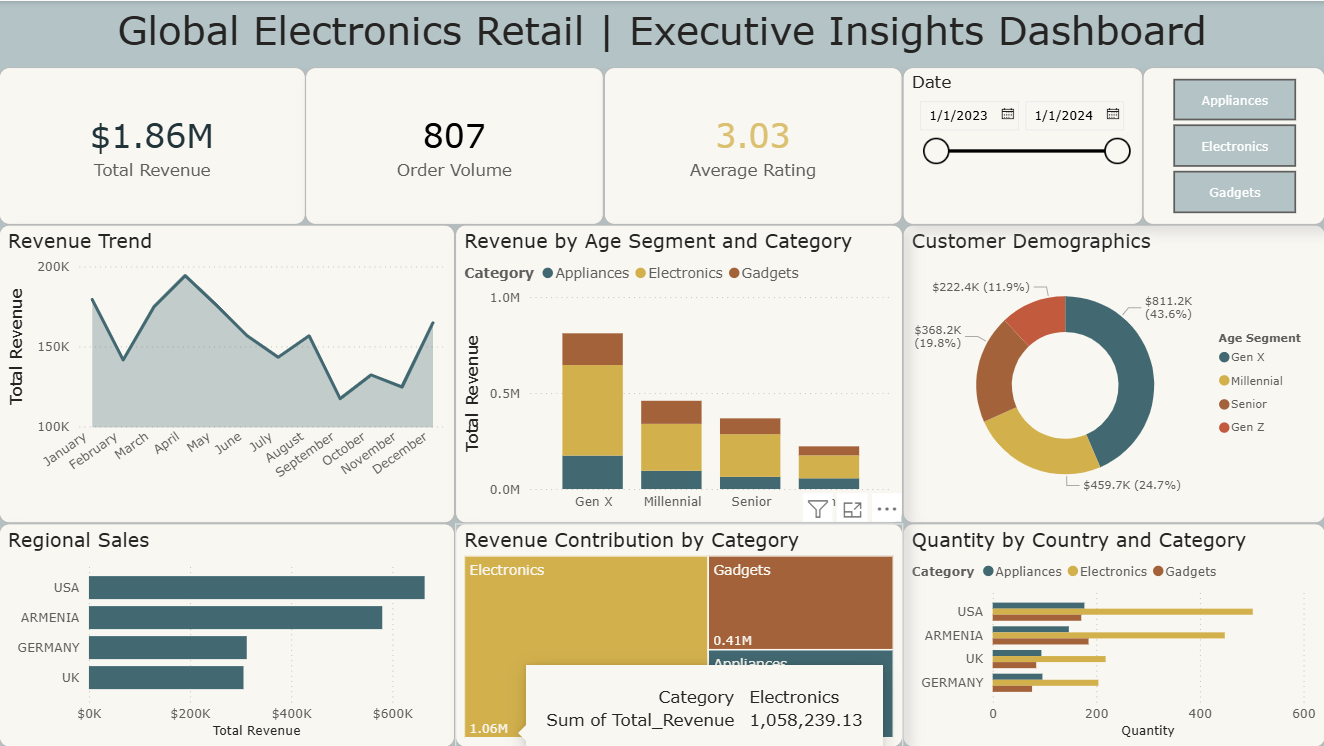

This screenshot's page, from the dashboard's own definition file:
{"tool":"powerbi","page":{"name":"Page 1","canvas":[1280,720],"ordinal":0},"visuals":[{"type":"card","fields":{"Values":["Sum(Query1.Total_Revenue)"]},"box":[0,64,296,152],"z":0},{"type":"card","fields":{"Values":["Count(Query1.Transaction_ID)"]},"box":[296,64,288,152],"z":1000},{"type":"card","fields":{"Values":["Avg(Query1.Rating)"]},"box":[584,64,288,152],"z":2000},{"type":"areaChart","title":"Revenue Trend","fields":{"Y":["Sum(Query1.Total_Revenue)"],"Category":["Query1.Clean_Date.Variation.Date Hierarchy.Year","Query1.Clean_Date.Variation.Date Hierarchy.Quarter","Query1.Clean_Date.Variation.Date Hierarchy.Month","Query1.Clean_Date.Variation.Date Hierarchy.Day"]},"box":[0,216,440,288],"z":3000},{"type":"donutChart","title":"Customer Demographics","fields":{"Category":["Query1.Age_Segment"],"Y":["Sum(Query1.Total_Revenue)"]},"box":[872,216,408,288],"z":4000},{"type":"clusteredBarChart","title":"Regional Sales","fields":{"Category":["Query1.Country"],"Y":["Sum(Query1.Total_Revenue)"]},"box":[0,504,440,216],"z":5000},{"type":"slicer","title":"Date","fields":{"Values":["Query1.Clean_Date"]},"box":[872,64,232,152],"z":6000},{"type":"textbox","box":[0,0,1280,64],"z":7000},{"type":"clusteredBarChart","fields":{"Category":["Query1.Country"],"Series":["Query1.Category"],"Y":["Sum(Query1.Quantity)"]},"box":[872,504,408,216],"z":8000},{"type":"columnChart","title":"Revenue by Age Segment and Category","fields":{"Category":["Query1.Age_Segment"],"Y":["Sum(Query1.Total_Revenue)"],"Series":["Query1.Category"]},"box":[440,216,432,288],"z":9000},{"type":"treemap","title":"Revenue Contribution by Category","fields":{"Group":["Query1.Category"],"Values":["Sum(Query1.Total_Revenue)"]},"box":[440,504,432,216],"z":10000},{"type":"slicer","fields":{"Values":["Query1.Category"]},"box":[1104,64,176,152],"z":11000}]}

Visuals, with their boxes in screenshot pixels (x1, y1, x2, y2), scaled from the page's 1280x720 canvas onto the 1324x746 screenshot:
card - Sum(Query1.Total_Revenue): box(0, 66, 306, 224)
card - Count(Query1.Transaction_ID): box(306, 66, 604, 224)
card - Avg(Query1.Rating): box(604, 66, 902, 224)
"Revenue Trend" areaChart: box(0, 224, 455, 522)
"Customer Demographics" donutChart: box(902, 224, 1323, 522)
"Regional Sales" clusteredBarChart: box(0, 522, 455, 745)
"Date" slicer: box(902, 66, 1142, 224)
textbox: box(0, 0, 1323, 66)
clusteredBarChart - Query1.Country x Query1.Category: box(902, 522, 1323, 745)
"Revenue by Age Segment and Category" columnChart: box(455, 224, 902, 522)
"Revenue Contribution by Category" treemap: box(455, 522, 902, 745)
slicer - Query1.Category: box(1142, 66, 1323, 224)
